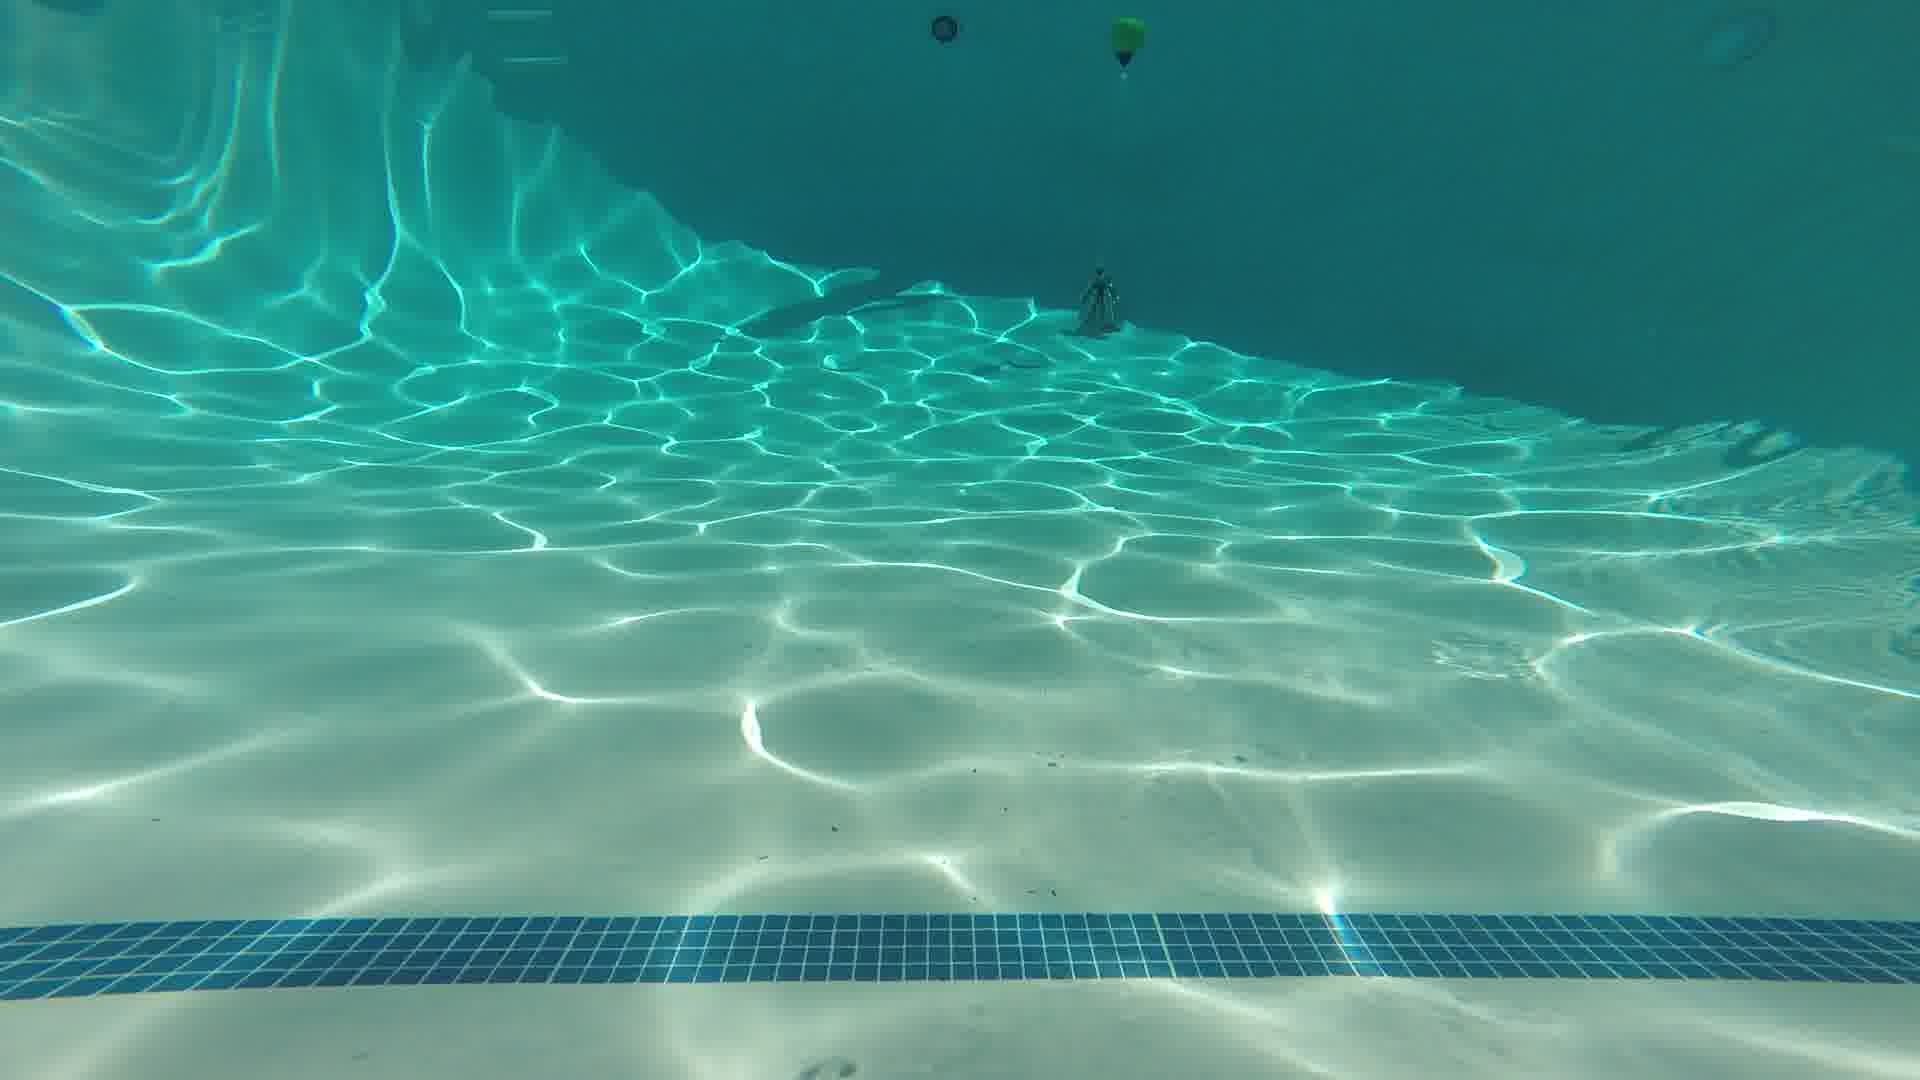yellow buoy: (1106, 11, 1149, 83)
